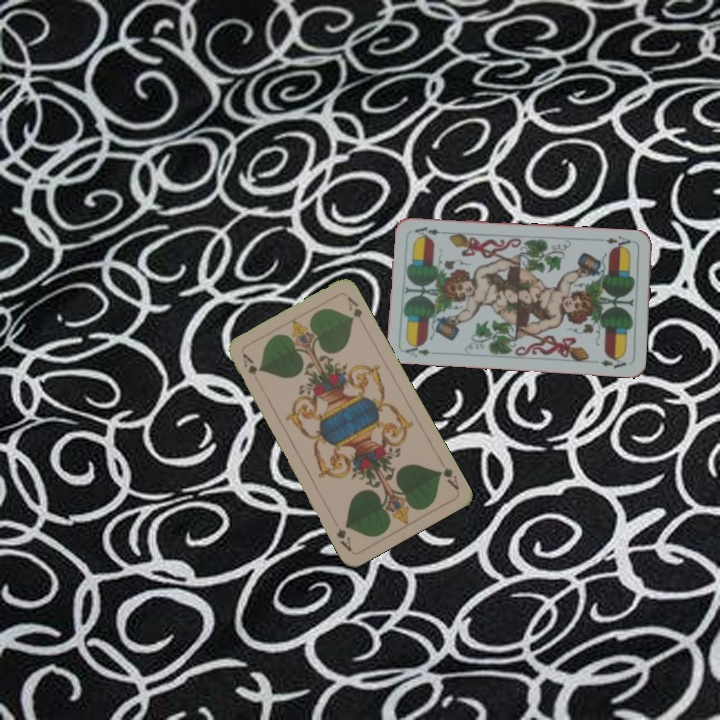EA: (602, 232, 637, 252), (401, 340, 432, 360)
GA: (433, 455, 462, 493), (238, 349, 263, 387)
